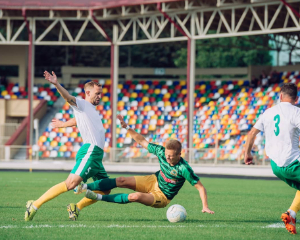fall: (88, 134, 218, 219)
